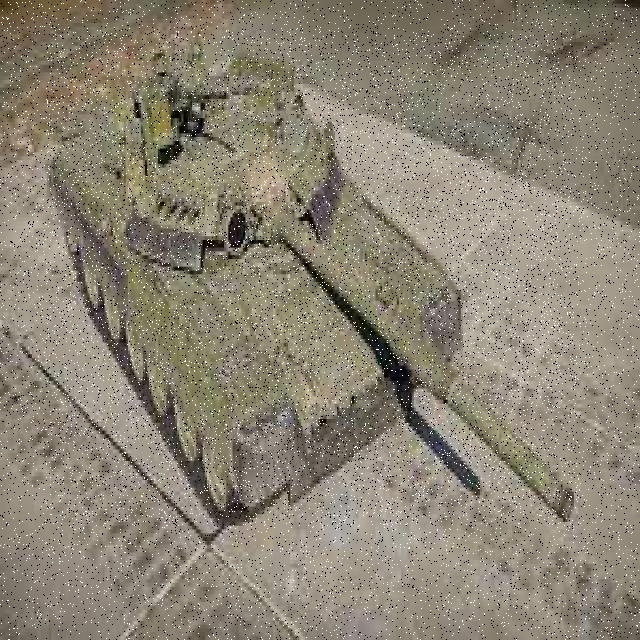MIL_MBT: (46, 34, 577, 526)
